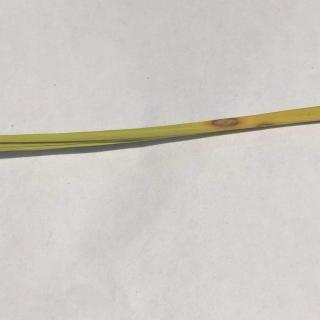Blast: (201, 112, 257, 128)
